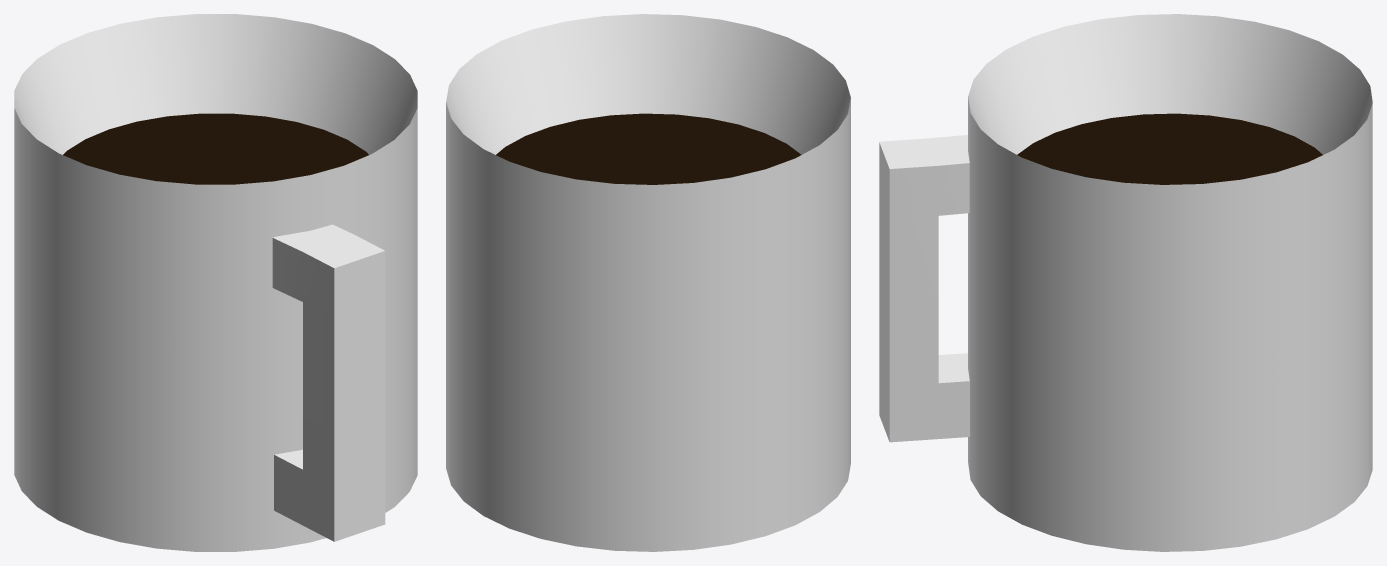
Rendered from Cup.fbx.
The picture shows the model from 3 angles, left to right: view 1: azimuth 30°, elevation 25°; view 2: azimuth 150°, elevation 25°; view 3: azimuth 270°, elevation 25°; orthographic projection.
Visible parts, largest first — view 1: Cup; view 2: Cup; view 3: Cup.
Part boxes in pixels (x1,y1,x2,y2): Cup: (14,14,417,551); Cup: (446,14,850,551); Cup: (879,14,1372,551).
Size of the model in its own units: 15.39 by 15.4 by 18.77.
